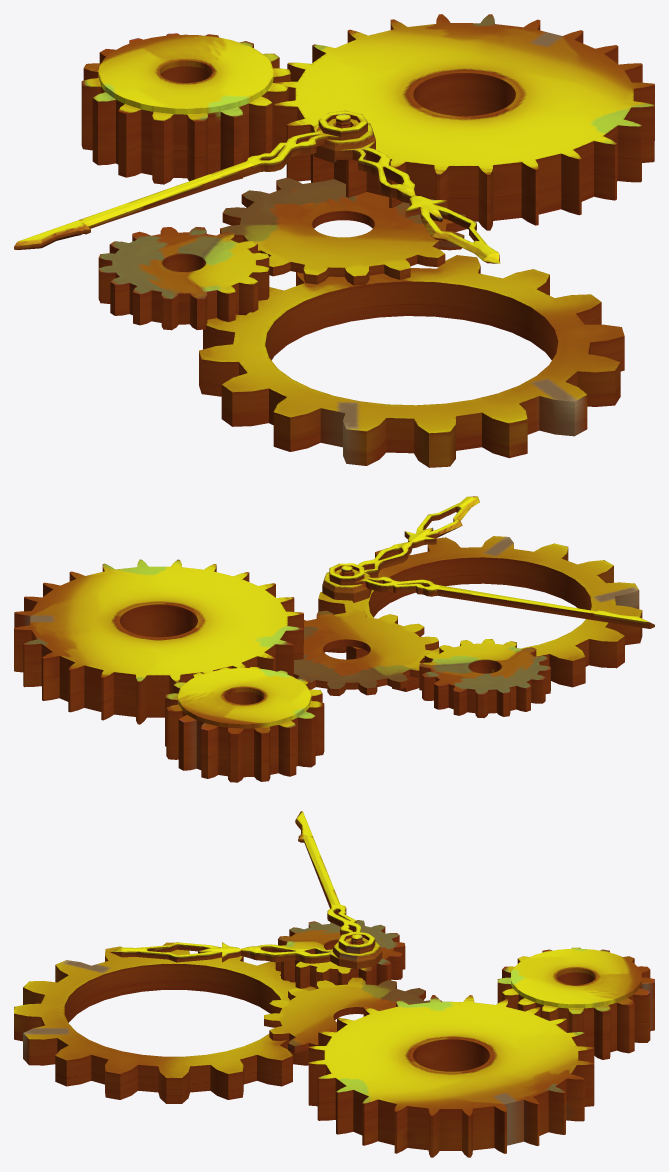
Rendered from reloj_maquinaria_movimiento.fbx.
3 views of the same model, one above another, from view 1: azimuth 30°, elevation 25°; view 2: azimuth 150°, elevation 25°; view 3: azimuth 270°, elevation 25° (orthographic). The views are drawn at different scales.
Visible parts, largest first — view 1: pGear5, pGear6, pGear4, pGear7, pGear8, agujas, agujas1; view 2: pGear5, pGear6, pGear4, pGear7, pGear8, agujas, agujas1; view 3: pGear5, pGear6, pGear4, pGear7, pGear8, agujas1, agujas.
Boxes of the visible parts, box(x1,y1,x2,y2) form: pGear5: box(274, 14, 654, 230); pGear6: box(199, 255, 624, 467); pGear4: box(81, 33, 290, 184); pGear7: box(220, 177, 466, 285); pGear8: box(98, 226, 269, 330); agujas: box(14, 110, 367, 249); agujas1: box(311, 114, 500, 263); pGear5: box(14, 559, 303, 724); pGear6: box(318, 536, 642, 691); pGear4: box(165, 667, 324, 782); pGear7: box(293, 610, 439, 695); pGear8: box(419, 639, 550, 717); agujas: box(329, 563, 654, 628); agujas1: box(322, 496, 479, 602); pGear5: box(308, 995, 594, 1157); pGear6: box(14, 942, 315, 1103); pGear4: box(497, 947, 654, 1059); pGear7: box(264, 977, 441, 1052); pGear8: box(275, 920, 405, 988); agujas1: box(110, 934, 382, 969); agujas: box(295, 811, 375, 953).
Size of the model in its own units: 1497 by 317 by 1545.
